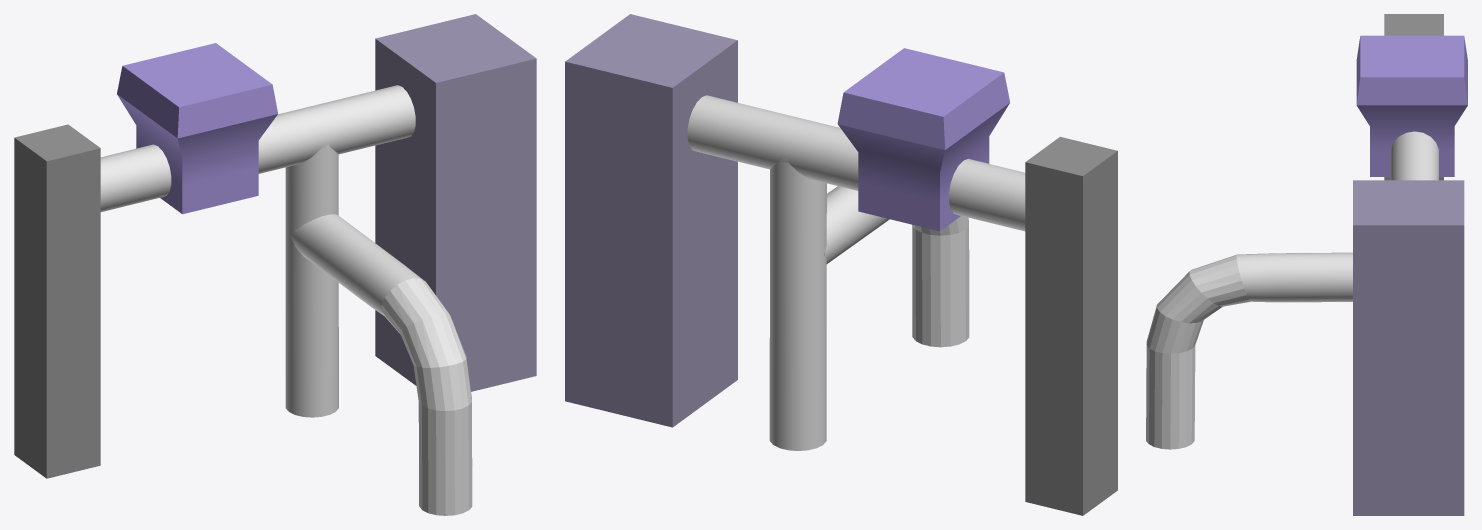
Rendered from tubos.FBX.
3 renders of one model, left to right at view 1: azimuth 30°, elevation 25°; view 2: azimuth 150°, elevation 25°; view 3: azimuth 270°, elevation 25°, orthographic. The views are drawn at different scales.
Visible parts, largest first — view 1: Box004, Cylinder003, Box006, Box005; view 2: Box004, Cylinder003, Box006, Box005; view 3: Box004, Cylinder003, Box005, Box006.
Part boxes in pixels (x1,y1,x2,y2): Box004: (375, 14, 536, 391); Cylinder003: (100, 85, 472, 515); Box006: (14, 124, 100, 478); Box005: (117, 43, 277, 214); Box004: (565, 14, 737, 427); Cylinder003: (687, 95, 1025, 450); Box006: (1025, 136, 1117, 515); Box005: (837, 48, 1009, 231); Box004: (1353, 180, 1464, 515); Cylinder003: (1146, 131, 1438, 449); Box005: (1356, 35, 1467, 176); Box006: (1384, 14, 1443, 180).
Bounding box in the file's own units: 134 × 97.89 × 86.37.
